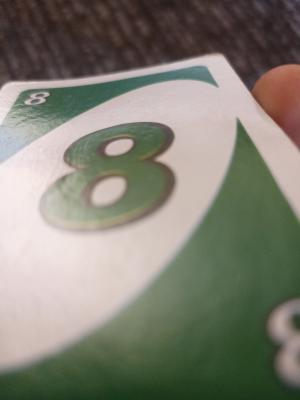green: (16, 92, 285, 376)
num_8: (19, 85, 52, 111)
